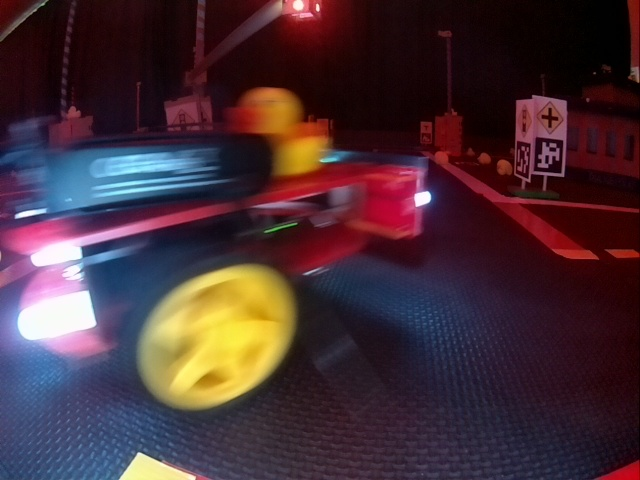Duckie: (228, 86, 325, 173), (497, 159, 512, 176), (434, 151, 449, 164), (478, 152, 491, 164), (466, 149, 474, 153)
Duckiebot: (1, 136, 419, 416)
Intersection sign: (535, 100, 563, 133), (421, 123, 431, 132)
QR code: (536, 139, 563, 171), (516, 141, 530, 176)
Signal sign: (517, 105, 531, 134)
